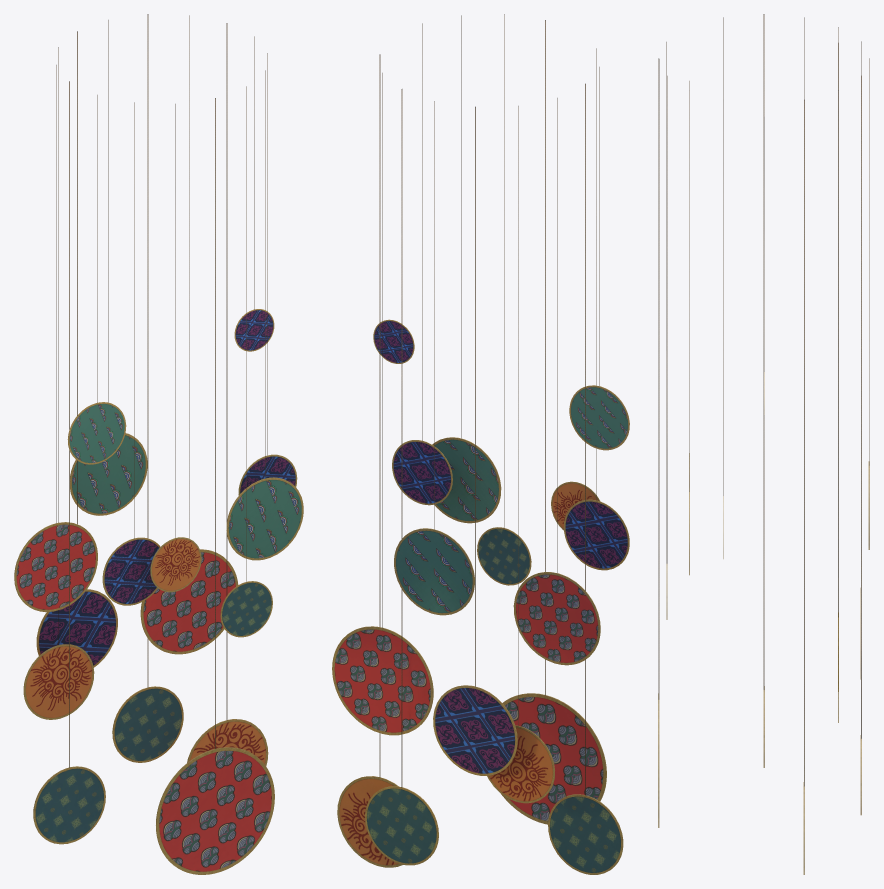
File: HangingFabric_LOD1.glb
3 views of the same model, side by side, from view 1: azimuth 30°, elevation 25°; view 2: azimuth 150°, elevation 25°; view 3: azimuth 270°, elevation 25° (orthographic). The views are drawn at different scales.
Visible parts, largest first — view 1: Hanging Fabric_PROCESSED.001_LOD1; view 2: Hanging Fabric_PROCESSED.001_LOD1; view 3: Hanging Fabric_PROCESSED.001_LOD1.
Boxes of the visible parts, x1,y1,x2,y2 form: Hanging Fabric_PROCESSED.001_LOD1: (14,14,303,874); Hanging Fabric_PROCESSED.001_LOD1: (332,14,629,874); Hanging Fabric_PROCESSED.001_LOD1: (658,14,869,874).
Bounding box in the file's own units: 5.52 × 16.19 × 4.02.
Materials: 1 (1 with a texture image).
